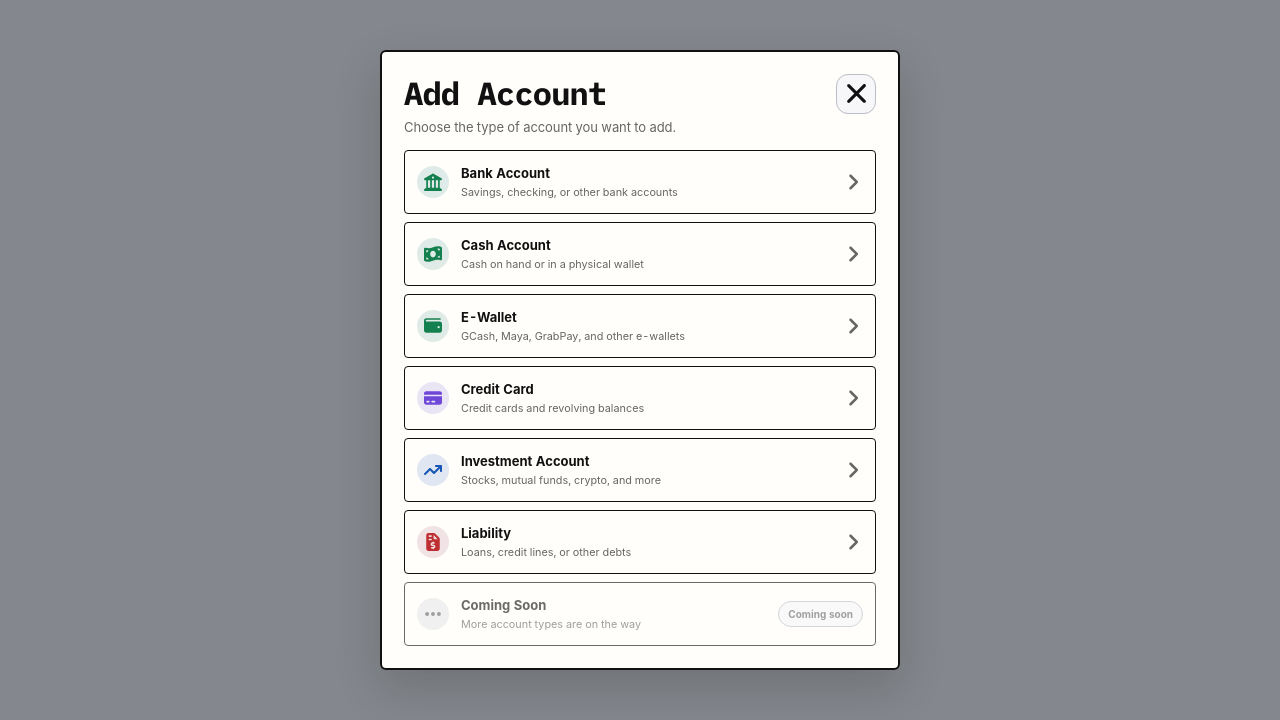
Test: account create wizard › shows the Add Cash Account context and Cash account name field after choosing {}
Click the button "Cash Account Cash on hand or in a physical wallet" at (433, 254), box [404,222,876,286]
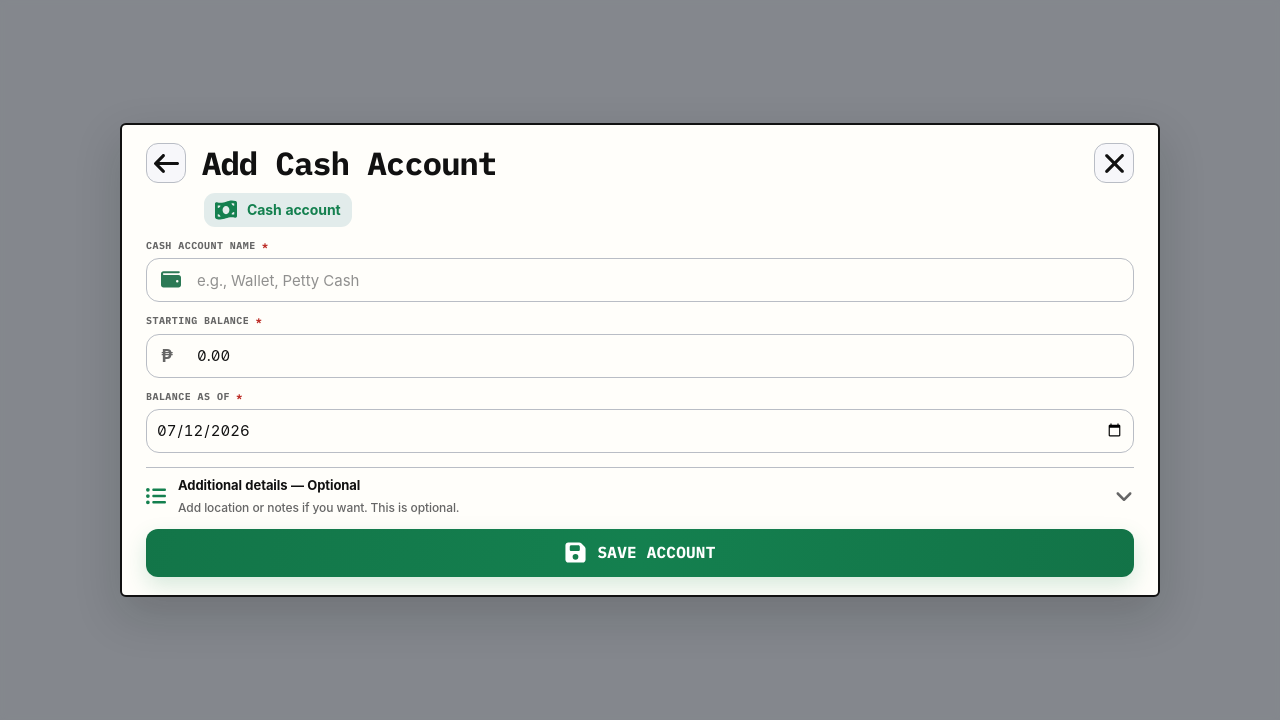
expect the heading "Add Cash Account" is shown: met, box [202,142,496,184]
expect the text "Cash account" is shown: met, box [247,200,341,220]
expect the field labelled "Cash account name" is shown: met, box [146,258,1134,302]
